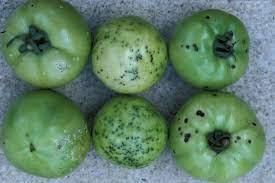tomato bacterial spot: (169, 92, 265, 183), (1, 90, 93, 180), (1, 1, 93, 91), (169, 10, 251, 92), (91, 17, 170, 96), (93, 96, 169, 170)
